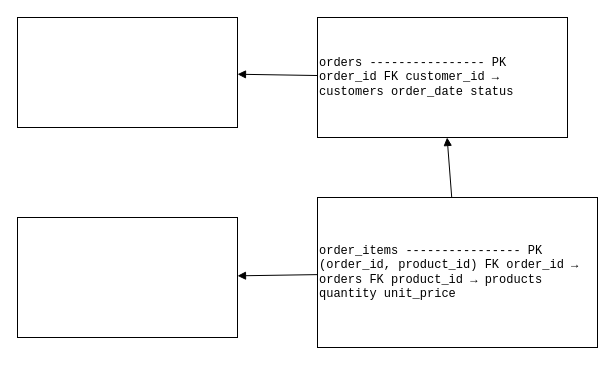
This 615x365 diagram has some shape labels left out. The shapes that lost their labels are listed below. From the top down, each one's centre as x and y in pixels, then its label:
point (127, 72): customers ---------------- PK customer_id full_name email (UNQ)
point (127, 277): products ---------------- PK product_id name price stock
